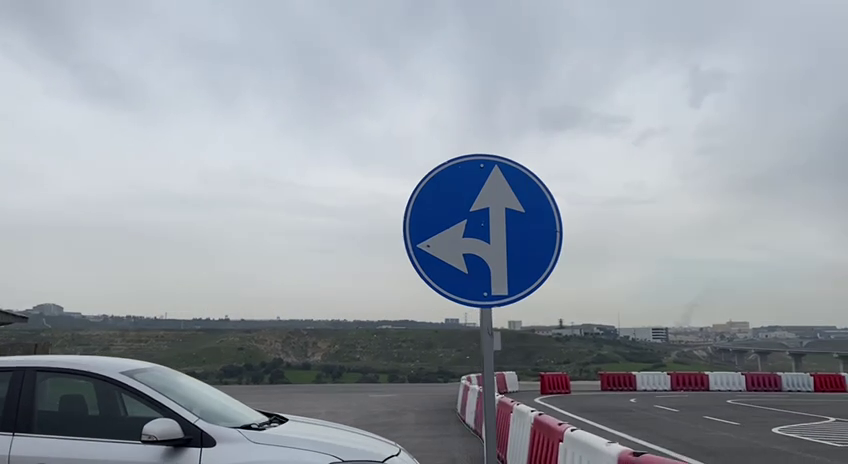forwardAndLeft: (394, 150, 570, 313)
